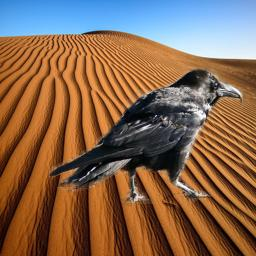Crow: (47, 67, 243, 209)
